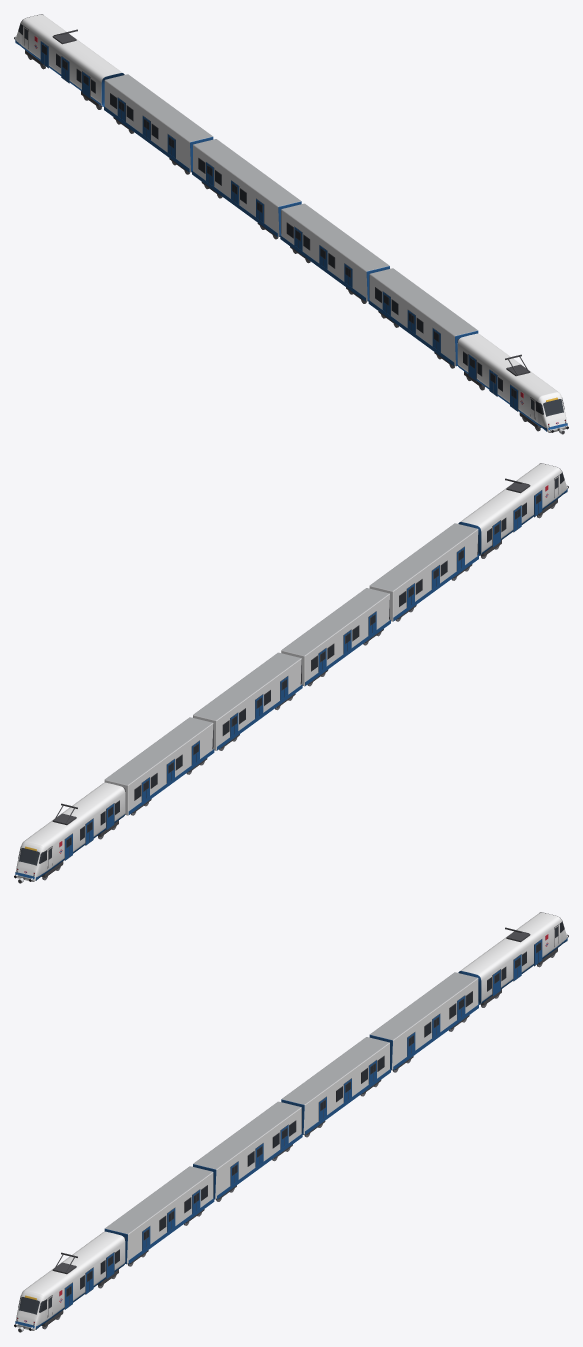
The picture shows the model from 3 angles, top to bottom: view 1: azimuth 30°, elevation 25°; view 2: azimuth 150°, elevation 25°; view 3: azimuth 330°, elevation 25°; orthographic projection.
Visible parts, largest first — view 1: car_00_mesh, car_01_mesh, car_04_mesh, car_02_mesh, car_03_mesh, car_05_mesh; view 2: car_05_mesh, car_01_mesh, car_04_mesh, car_02_mesh, car_03_mesh, car_00_mesh; view 3: car_00_mesh, car_01_mesh, car_04_mesh, car_02_mesh, car_03_mesh, car_05_mesh.
Part boxes in pixels (x1,y1,x2,y2): car_00_mesh: (457, 333, 568, 434); car_01_mesh: (368, 268, 478, 366); car_04_mesh: (104, 74, 213, 172); car_02_mesh: (280, 203, 389, 301); car_03_mesh: (192, 139, 301, 236); car_05_mesh: (14, 14, 124, 106); car_05_mesh: (14, 782, 125, 883); car_01_mesh: (369, 523, 478, 621); car_04_mesh: (104, 717, 214, 815); car_02_mesh: (281, 588, 390, 686); car_03_mesh: (193, 652, 302, 750); car_00_mesh: (458, 463, 568, 555); car_00_mesh: (14, 1231, 125, 1332); car_01_mesh: (104, 1166, 214, 1264); car_04_mesh: (369, 972, 478, 1070); car_02_mesh: (193, 1101, 302, 1199); car_03_mesh: (281, 1037, 390, 1134); car_05_mesh: (458, 912, 568, 1004).
Bounding box in the file's own units: 2.45 × 4.53 × 90.58.
